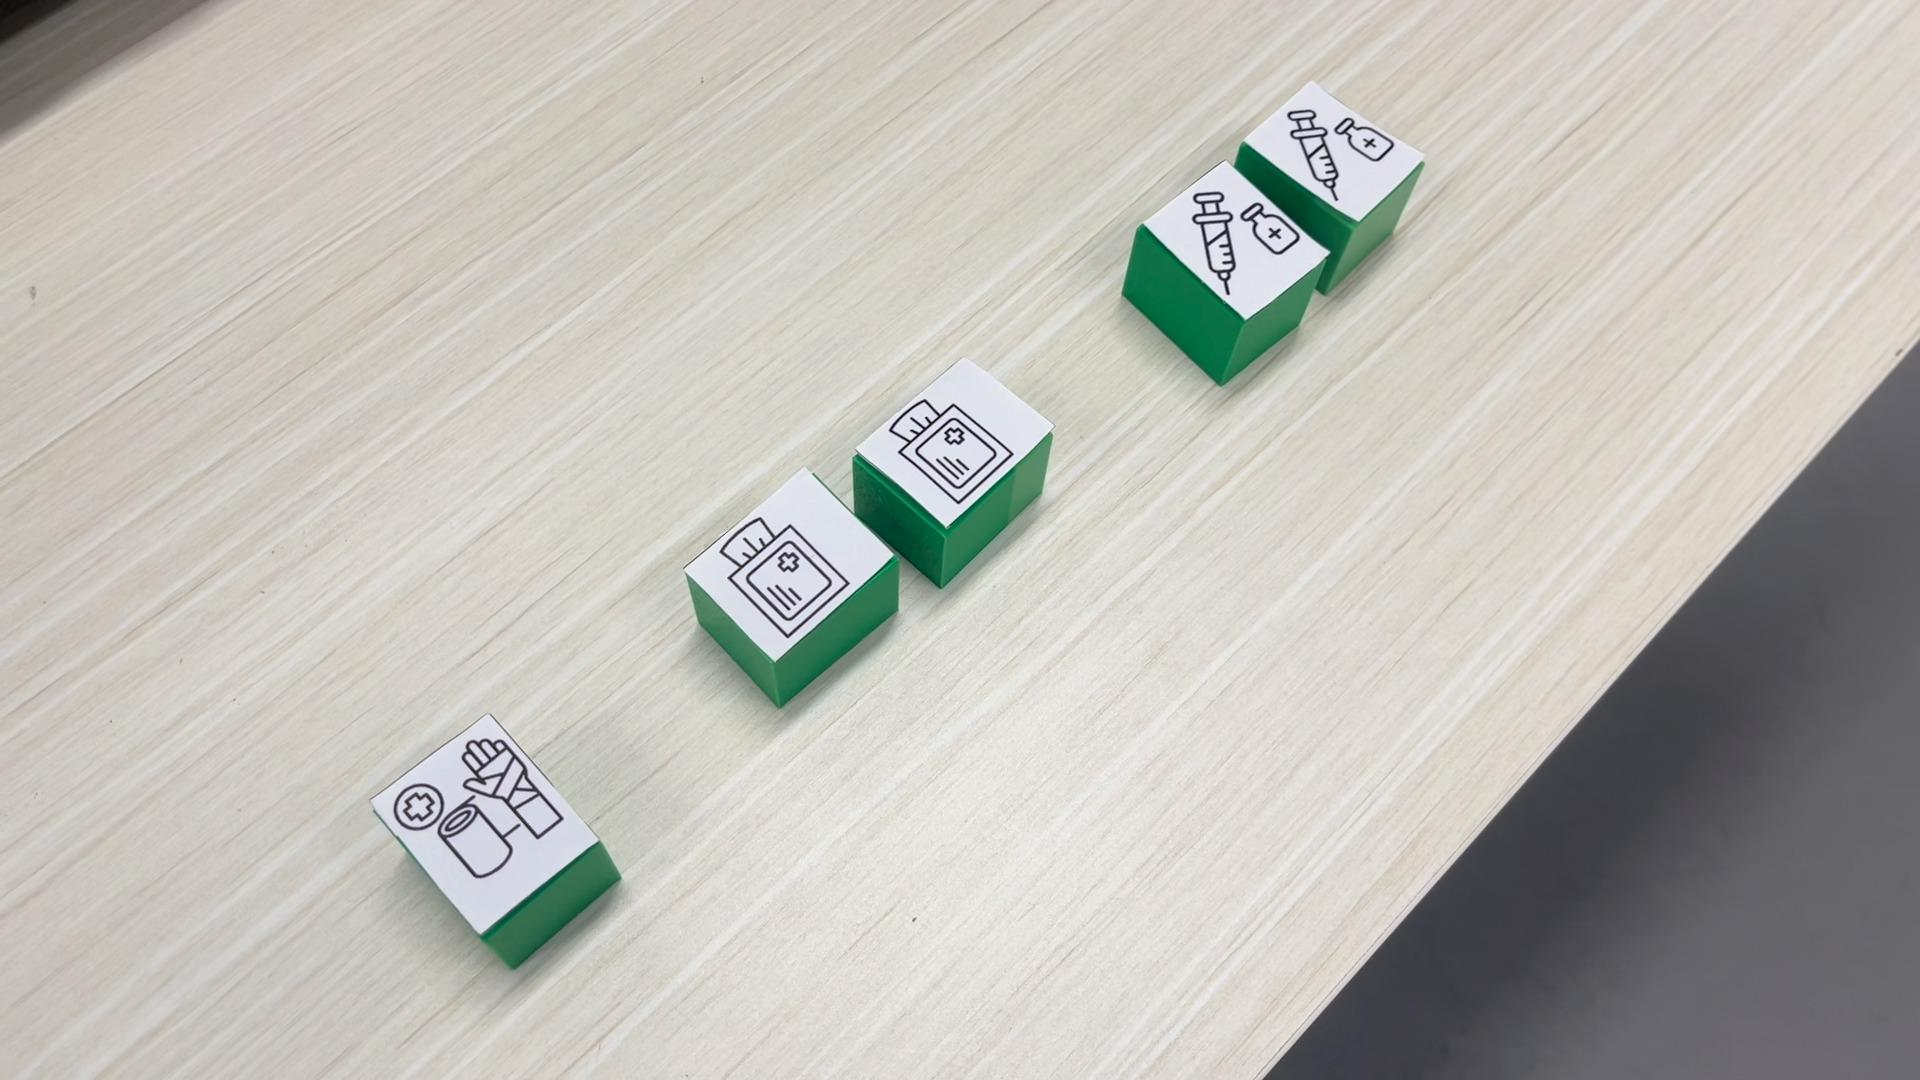Bandages: (361, 712, 621, 968)
Gauze: (679, 467, 903, 707), (852, 352, 1054, 585)
antiseptic cream: (1120, 144, 1341, 385), (1237, 78, 1425, 232)
